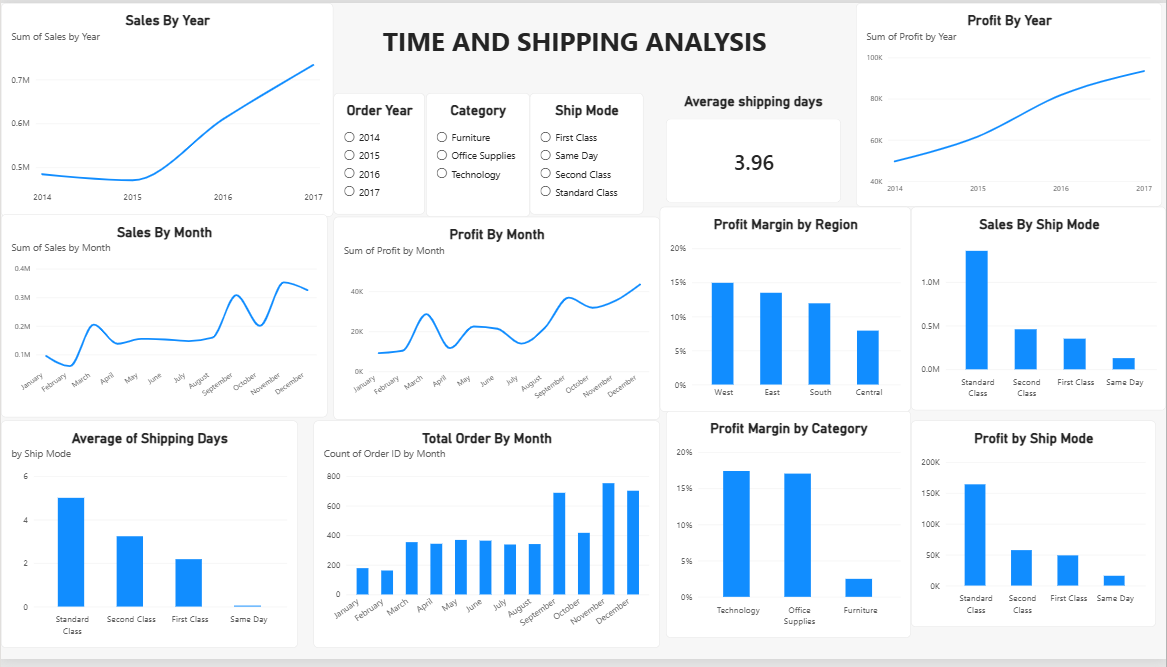

What the dashboard file says about the page in this screenshot:
{"tool":"powerbi","page":{"name":"Time and shipping analysis","canvas":[1920,1080],"ordinal":2},"visuals":[{"type":"lineChart","title":"Sales By Year","fields":{"Category":["superstore_cleaned.Order Date.Variation.Date Hierarchy.Year","superstore_cleaned.Order Date.Variation.Date Hierarchy.Quarter","superstore_cleaned.Order Date.Variation.Date Hierarchy.Month","superstore_cleaned.Order Date.Variation.Date Hierarchy.Day"],"Y":["Sum(superstore_cleaned.Sales)"]},"box":[0,0,547.5,352],"z":0},{"type":"lineChart","title":"Sales By Month","fields":{"Category":["superstore_cleaned.Order Date.Variation.Date Hierarchy.Month"],"Y":["Sum(superstore_cleaned.Sales)"]},"box":[0,347.9,537.5,334.8],"z":1000},{"type":"lineChart","title":"Profit By Month","fields":{"Category":["superstore_cleaned.Order Date.Variation.Date Hierarchy.Month"],"Y":["Sum(superstore_cleaned.Profit)"]},"box":[548.3,352.9,537.5,334.8],"z":2000},{"type":"lineChart","title":"Profit By Year","fields":{"Category":["superstore_cleaned.Order Date.Variation.Date Hierarchy.Year","superstore_cleaned.Order Date.Variation.Date Hierarchy.Quarter","superstore_cleaned.Order Date.Variation.Date Hierarchy.Month","superstore_cleaned.Order Date.Variation.Date Hierarchy.Day"],"Y":["Sum(superstore_cleaned.Profit)"]},"box":[1407.9,0,504.3,335.5],"z":3000},{"type":"clusteredColumnChart","title":"Sales By Ship Mode","fields":{"Category":["superstore_cleaned.Ship Mode"],"Y":["Sum(superstore_cleaned.Sales)"]},"box":[1498.5,335.5,422,335.5],"z":4000},{"type":"clusteredColumnChart","title":"Profit by Ship Mode","fields":{"Category":["superstore_cleaned.Ship Mode"],"Y":["Sum(superstore_cleaned.Profit)"]},"box":[1498.5,687.5,403.4,339.6],"z":5000},{"type":"cardVisual","title":"Average shipping days","fields":{"Data":["Avg(superstore_cleaned.Shipping Days)"]},"box":[1095,148.2,288.2,181.1],"z":6000},{"type":"clusteredColumnChart","fields":{"Category":["superstore_cleaned.Ship Mode"],"Y":["Avg(superstore_cleaned.Shipping Days)"]},"box":[0,687.7,488.6,374.6],"z":7000},{"type":"listSlicer","fields":{"Values":["superstore_cleaned.Ship Mode"]},"box":[870.7,148.2,187.3,199.7],"z":8000},{"type":"listSlicer","fields":{"Values":["superstore_cleaned.Order Year"]},"box":[547.5,148.2,150.3,199.7],"z":9000},{"type":"clusteredColumnChart","title":"Total Order By Month","fields":{"Category":["superstore_cleaned.Order Date.Variation.Date Hierarchy.Month","superstore_cleaned.Order Date.Variation.Date Hierarchy.Day"],"Y":["Count(superstore_cleaned.Order ID)"]},"box":[514.6,687.5,570.2,374.6],"z":10000},{"type":"listSlicer","fields":{"Values":["superstore_cleaned.Category"]},"box":[699.8,148.2,170.8,203.8],"z":11000},{"type":"textbox","box":[547.5,32.9,794.5,76.2],"z":12000},{"type":"textbox","box":[1095,352,288,268],"z":13000},{"type":"clusteredColumnChart","fields":{"Category":["superstore_cleaned.Category"],"Y":["superstore_cleaned.Profit Margin"]},"box":[1095,671,403.4,374.6],"z":14000},{"type":"clusteredColumnChart","title":"Profit Margin by Region","fields":{"Category":["superstore_cleaned.Region"],"Y":["superstore_cleaned.Profit Margin"]},"box":[1084.7,335.5,413.7,337.6],"z":15000}]}

Visuals, with their boxes in screenshot pixels (x1, y1, x2, y2), scaled from the page's 1920x1080 canvas onto the 1167x667 screenshot:
"Sales By Year" lineChart: x1=0 y1=0 x2=333 y2=217
"Sales By Month" lineChart: x1=0 y1=215 x2=327 y2=422
"Profit By Month" lineChart: x1=333 y1=218 x2=660 y2=425
"Profit By Year" lineChart: x1=856 y1=0 x2=1162 y2=207
"Sales By Ship Mode" clusteredColumnChart: x1=911 y1=207 x2=1166 y2=414
"Profit by Ship Mode" clusteredColumnChart: x1=911 y1=425 x2=1156 y2=634
"Average shipping days" cardVisual: x1=666 y1=92 x2=841 y2=203
clusteredColumnChart - superstore_cleaned.Ship Mode x Avg(superstore_cleaned.Shipping Days): x1=0 y1=425 x2=297 y2=656
listSlicer - superstore_cleaned.Ship Mode: x1=529 y1=92 x2=643 y2=215
listSlicer - superstore_cleaned.Order Year: x1=333 y1=92 x2=424 y2=215
"Total Order By Month" clusteredColumnChart: x1=313 y1=425 x2=659 y2=656
listSlicer - superstore_cleaned.Category: x1=425 y1=92 x2=529 y2=217
textbox: x1=333 y1=20 x2=816 y2=67
textbox: x1=666 y1=217 x2=841 y2=383
clusteredColumnChart - superstore_cleaned.Category x superstore_cleaned.Profit Margin: x1=666 y1=414 x2=911 y2=646
"Profit Margin by Region" clusteredColumnChart: x1=659 y1=207 x2=911 y2=416
